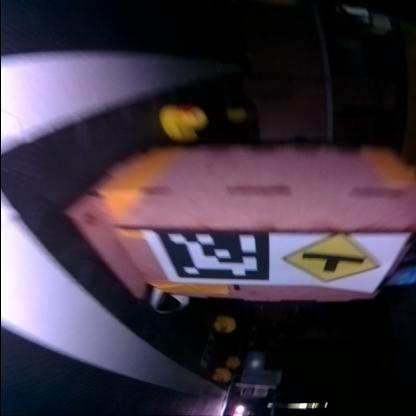Duckie: (160, 104, 207, 140), (214, 314, 236, 332), (227, 107, 246, 122), (214, 367, 232, 381), (226, 356, 240, 367)
Duckiebot: (227, 403, 252, 414)
Intersection sign: (284, 232, 384, 284)
QR code: (154, 231, 272, 281)
